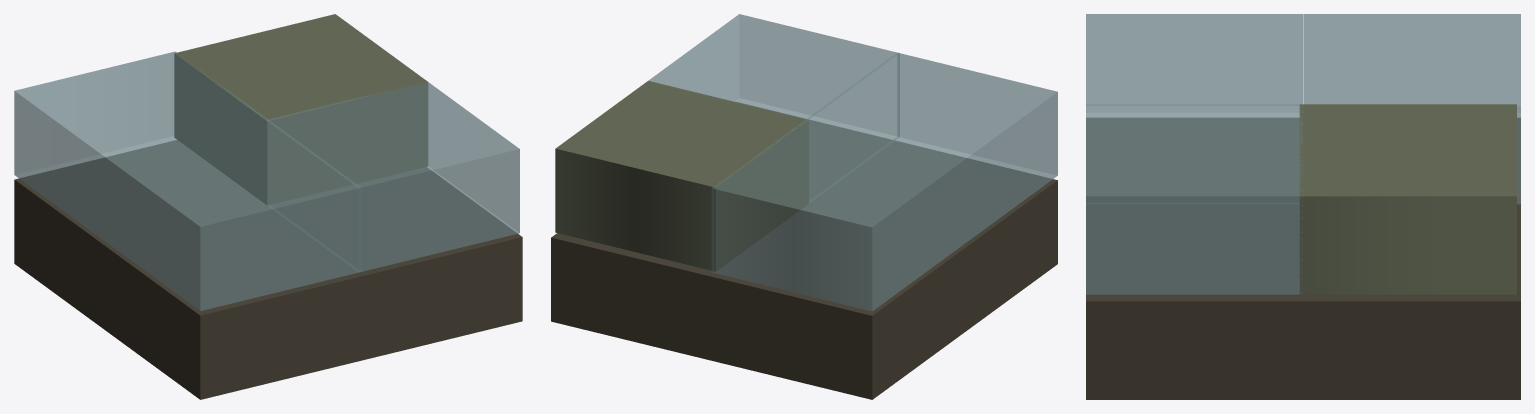
The model's file is Quater grass and all water bottom dirt.fbx.
3 views of the same model, side by side, from view 1: azimuth 30°, elevation 25°; view 2: azimuth 150°, elevation 25°; view 3: azimuth 270°, elevation 25° (orthographic). The views are drawn at different scales.
Parts seen in each view (by area): view 1: polySurface1185; view 2: polySurface1185; view 3: polySurface1185.
Boxes of the visible parts, <box> form: polySurface1185: <box>14,14,522,399</box>; polySurface1185: <box>551,14,1057,399</box>; polySurface1185: <box>1086,14,1520,399</box>.
Bounding box in the file's own units: 56.97 × 29.24 × 56.99.
